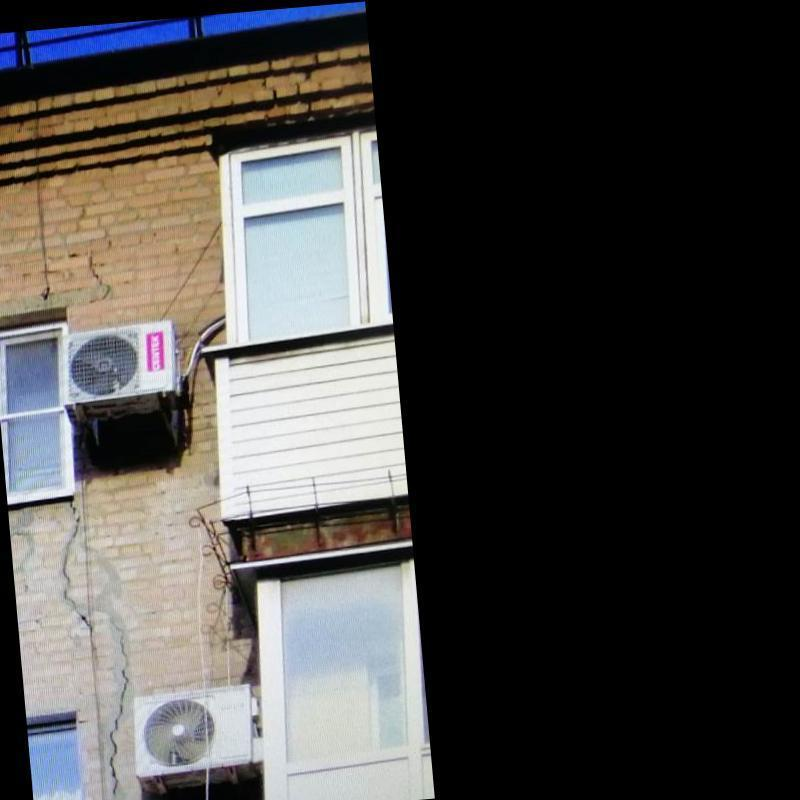crack: (62, 500, 93, 638), (108, 619, 130, 797), (88, 254, 111, 304)
